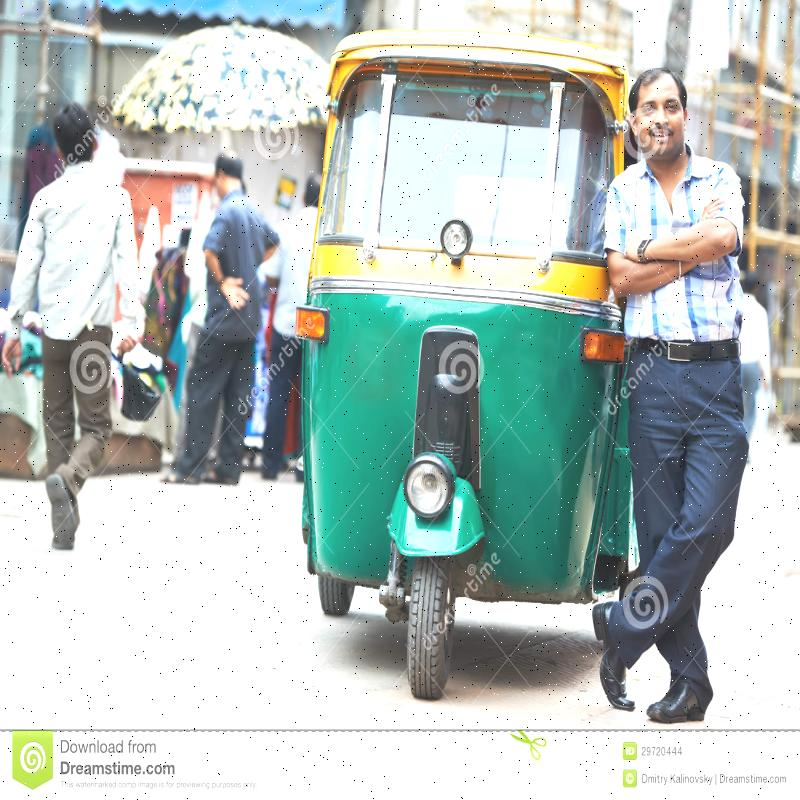auto: (301, 26, 604, 690)
